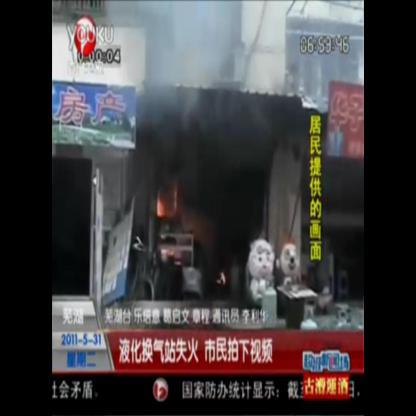smoke: (150, 16, 220, 85), (142, 89, 212, 141)
